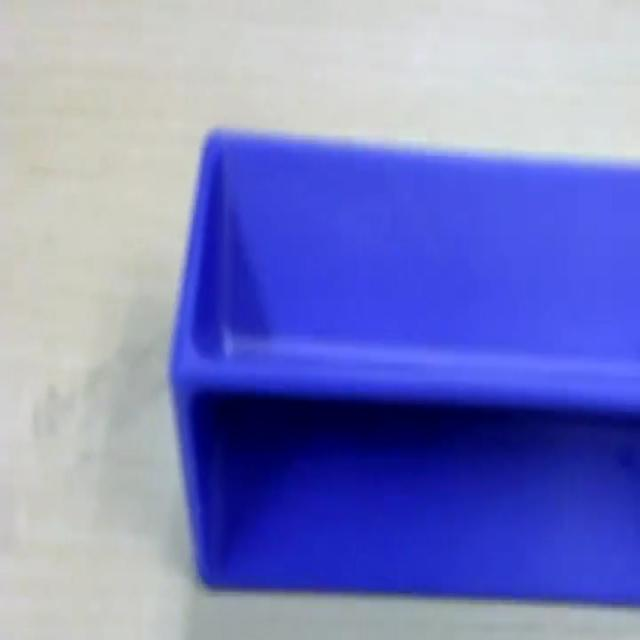blue_block: (167, 123, 638, 605)
